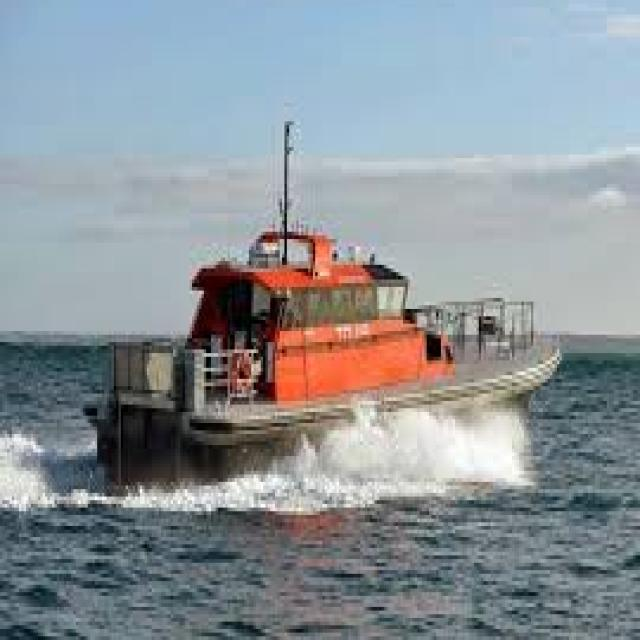houseboat: (105, 107, 568, 498)
